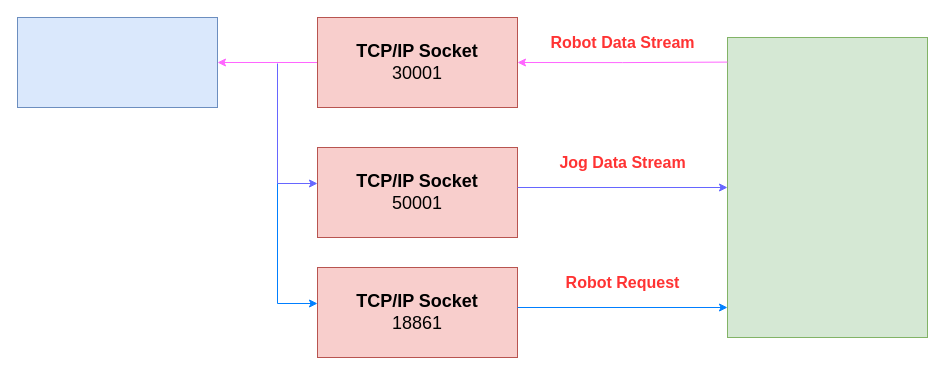
This 945x375 diagram has some shape labels left out. The shapes that lost their labels are listed below. From the top down, each one's centre as x and y in pixels, then its label:
At [117,62]: "User Application (Python)".
At [827,187]: "OWL ROBOT CONTROLLER".
